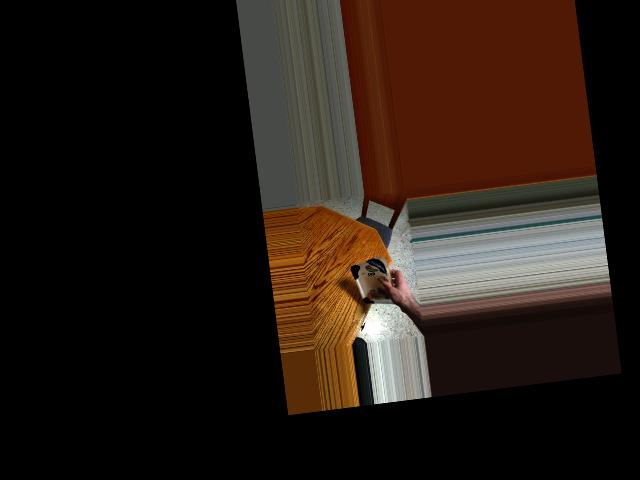cheese: (352, 253, 395, 313)
